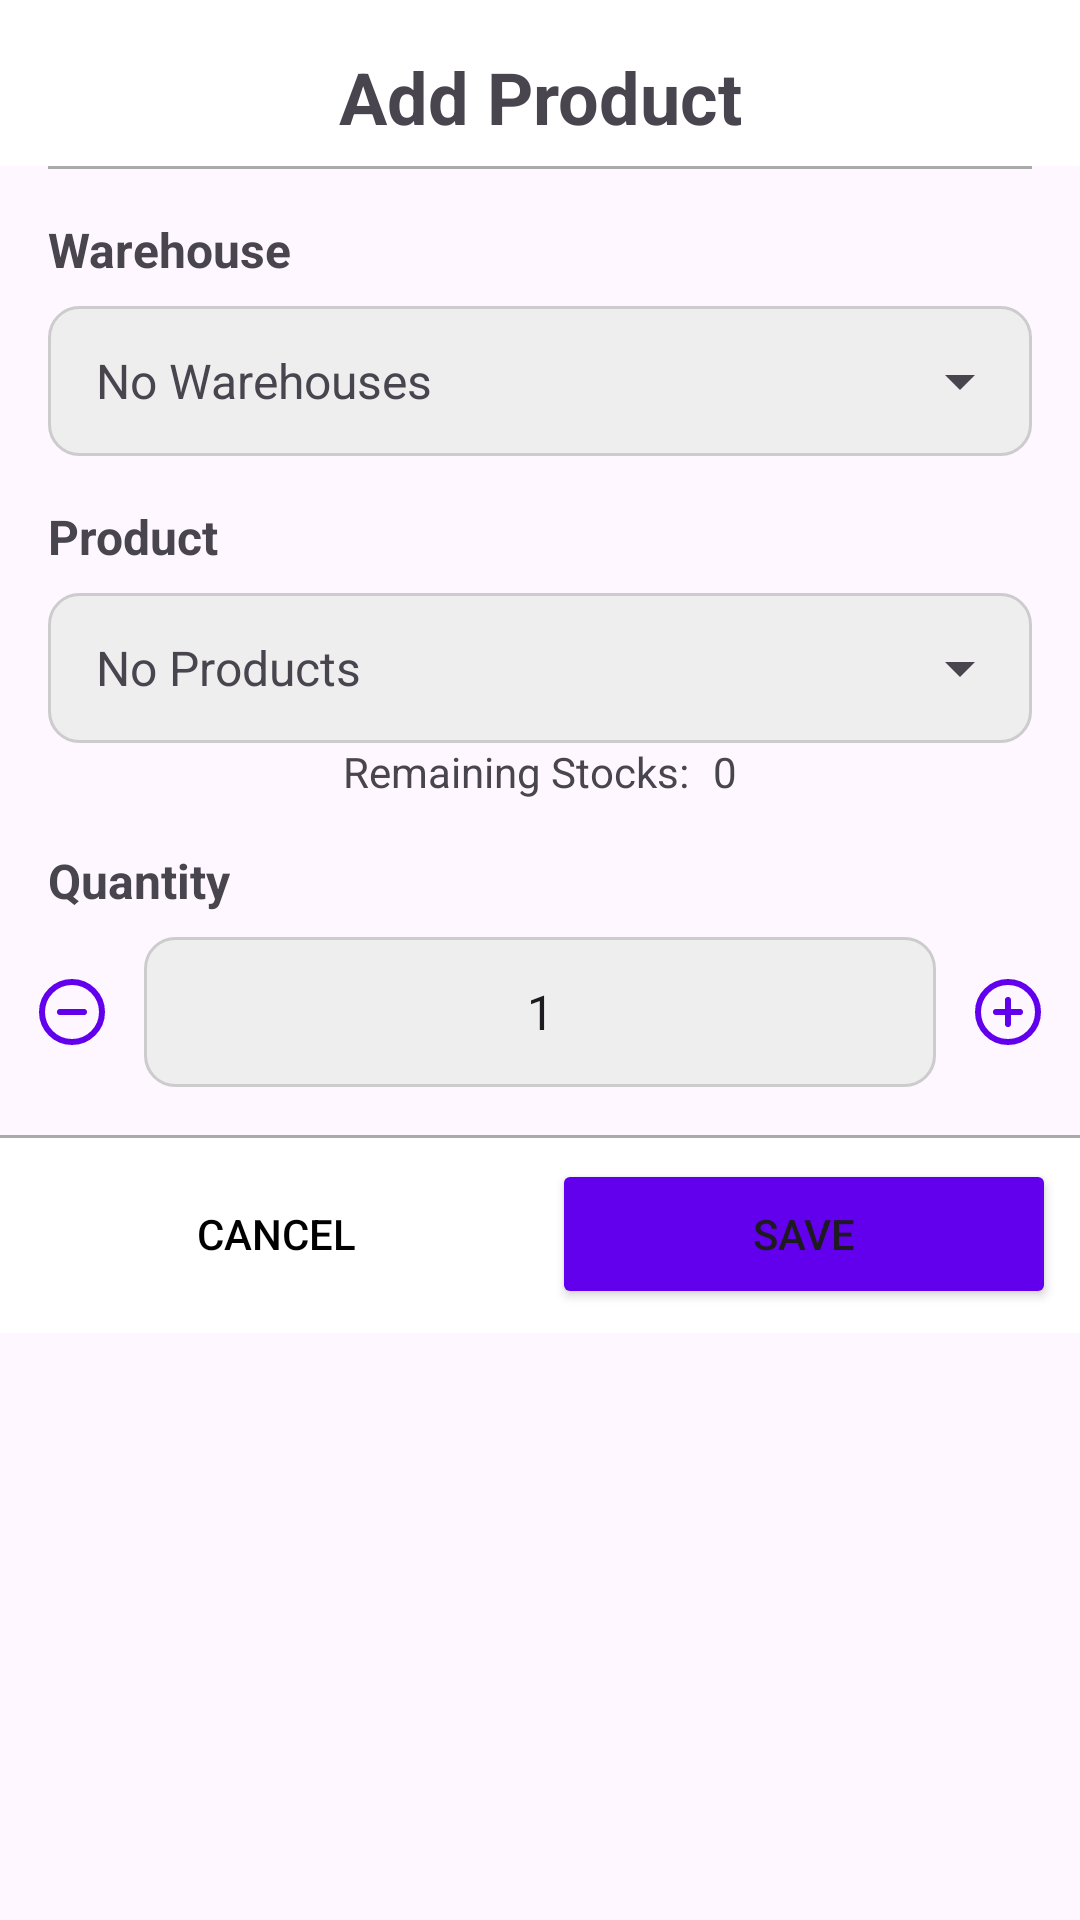

Where to tap for icons on this 1080px×1920px app screen, as [x,y]:
minus circle: [72,1012]
plus circle: [1008,1012]
